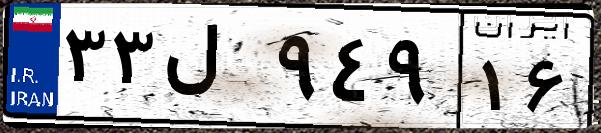1: (475, 38, 525, 113)
3: (57, 26, 110, 100), (110, 28, 158, 98)
4: (330, 28, 385, 110)
6: (525, 38, 570, 115)
9: (270, 28, 330, 110), (385, 28, 445, 110)
ل: (158, 20, 270, 120)
